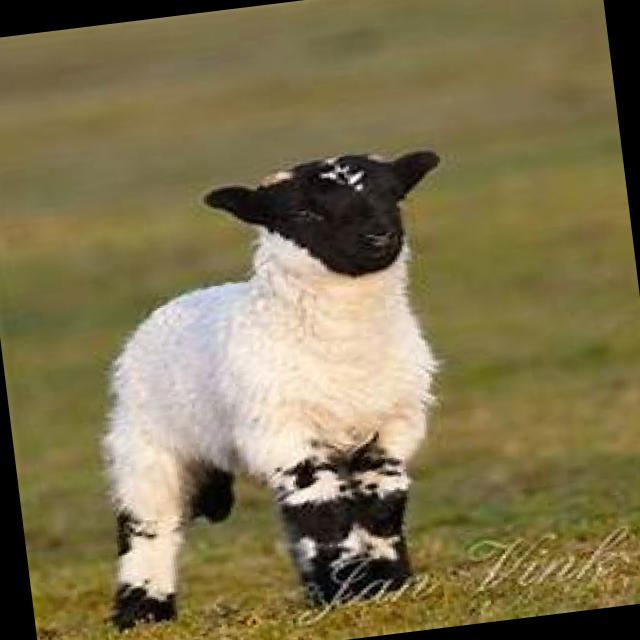animal: (49, 138, 492, 634)
